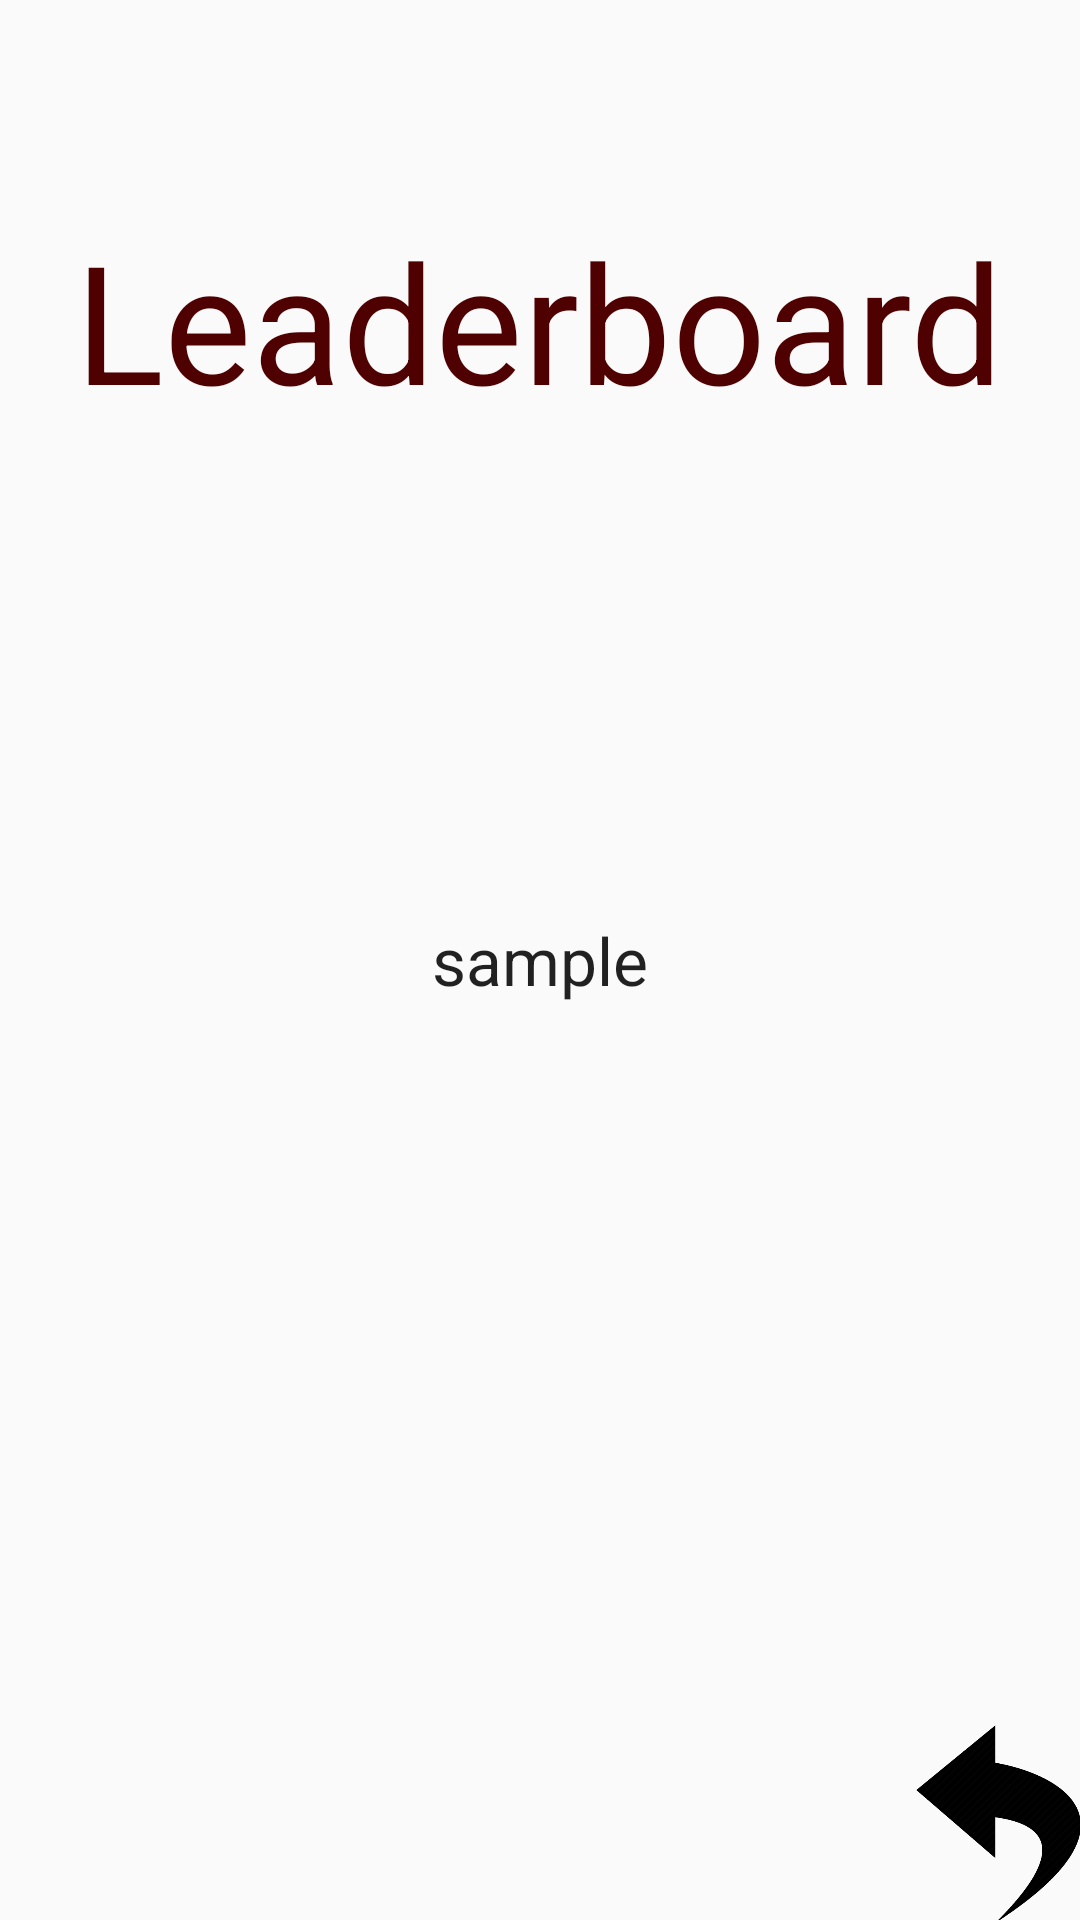

Icons on this 1080 x 1920 Android screen, each with its box as Rect(x1, y1, x2, y2):
undo: Rect(916, 1725, 1080, 1920)
